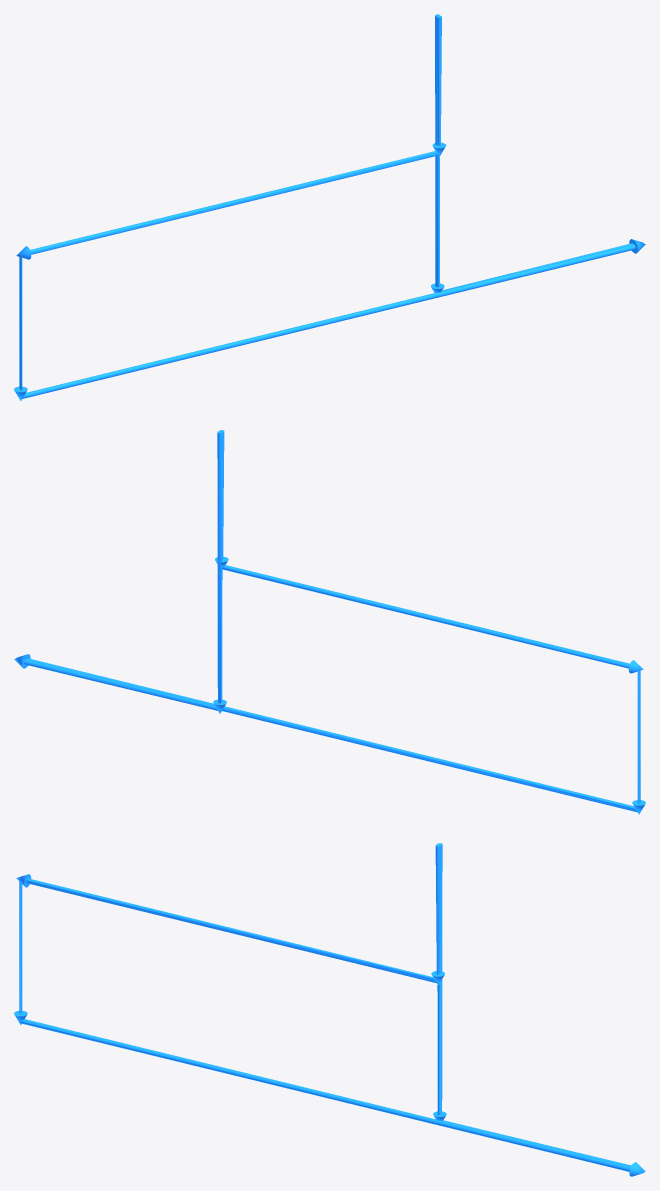
Rendered from pig_launcher_flow.glb.
3 views of the same model, one above another, from view 1: azimuth 30°, elevation 25°; view 2: azimuth 150°, elevation 25°; view 3: azimuth 330°, elevation 25° (orthographic).
Parts seen in each view (by area): view 1: kicker_flow, bypass_flow; view 2: kicker_flow, bypass_flow; view 3: kicker_flow, bypass_flow.
Boxes of the visible parts, x1=… form: kicker_flow: x1=14, y1=16, x2=645, y2=400; bypass_flow: x1=431, y1=14, x2=643, y2=297; kicker_flow: x1=16, y1=430, x2=645, y2=814; bypass_flow: x1=14, y1=431, x2=226, y2=713; kicker_flow: x1=14, y1=844, x2=643, y2=1176; bypass_flow: x1=433, y1=843, x2=645, y2=1171.
Bounding box in the file's own units: 2.19 × 0.9408 × 0.0516.
